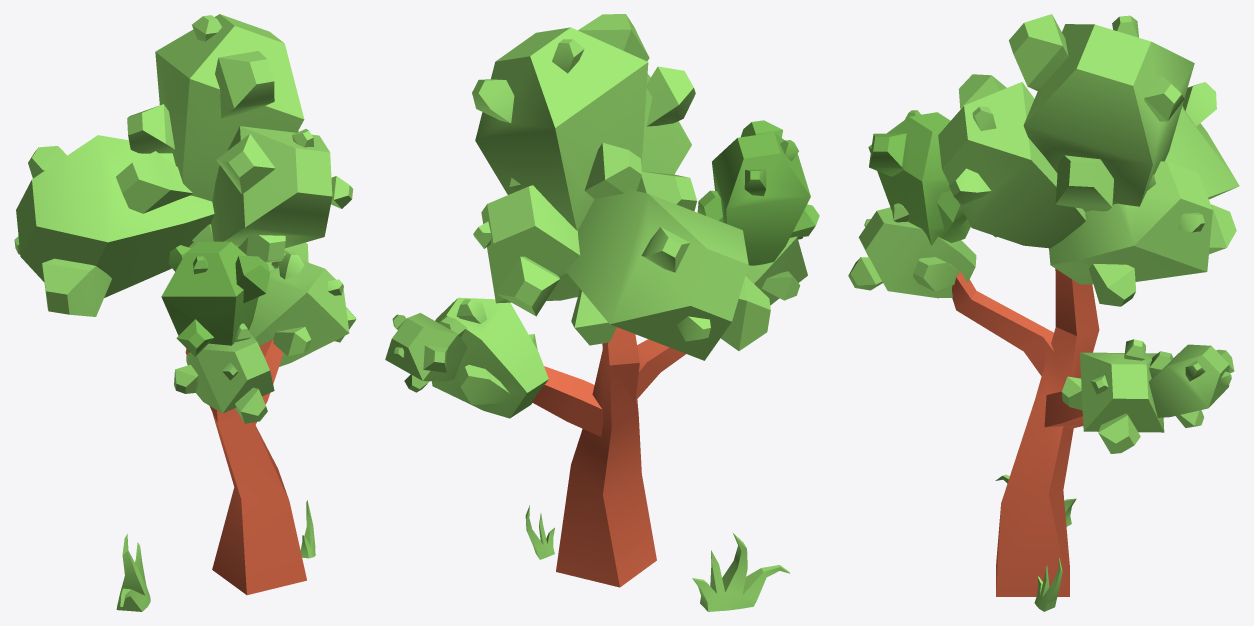
File: tree.glb
3 views of the same model, side by side, from view 1: azimuth 30°, elevation 25°; view 2: azimuth 150°, elevation 25°; view 3: azimuth 270°, elevation 25° (orthographic). The views are drawn at different scales.
Visible parts, largest first — view 1: BranchesCBranchesuBranchesbBrancheseBranches.Branches0Branc. (×3), Trunk, BranchesCBranchesuBranchesbBrancheseBranches.Branches0Branch, BranchesCBranchesuBranchesbBrancheseBranches.Branches0BrancB, BranchesCBranchesuBranchesbBrancheseBranchesBranch, Plane, Plane.001; view 2: BranchesCBranchesuBranchesbBrancheseBranches.Branches0Branc. (×5), Trunk, BranchesCBranchesuBranchesbBrancheseBranches.Branches0Branch, BranchesCBranchesuBranchesbBrancheseBranches.Branches0BrancB, Plane, BranchesCBranchesuBranchesbBrancheseBranchesBranch, Plane.001; view 3: BranchesCBranchesuBranchesbBrancheseBranches.Branches0Branc. (×5), Trunk, BranchesCBranchesuBranchesbBrancheseBranches.Branches0Branch, BranchesCBranchesuBranchesbBrancheseBranchesBranch, BranchesCBranchesuBranchesbBrancheseBranches.Branches0BrancB, Plane.001.
Boxes of the visible parts, x1,y1,x2,y2 form: BranchesCBranchesuBranchesbBrancheseBranches.Branches0Branc. (×3): (14, 14, 353, 316); Trunk: (185, 339, 306, 595); BranchesCBranchesuBranchesbBrancheseBranches.Branches0Branch: (161, 241, 269, 356); BranchesCBranchesuBranchesbBrancheseBranches.Branches0BrancB: (249, 253, 356, 366); BranchesCBranchesuBranchesbBrancheseBranchesBranch: (174, 323, 274, 423); Plane: (116, 534, 150, 611); Plane.001: (300, 500, 315, 558); BranchesCBranchesuBranchesbBrancheseBranches.Branches0Branc. (×5): (385, 14, 770, 392); Trunk: (532, 327, 685, 587); BranchesCBranchesuBranchesbBrancheseBranches.Branches0Branch: (697, 120, 819, 265); BranchesCBranchesuBranchesbBrancheseBranches.Branches0BrancB: (432, 297, 548, 418); Plane: (692, 533, 789, 611); BranchesCBranchesuBranchesbBrancheseBranchesBranch: (745, 236, 807, 305); Plane.001: (525, 505, 554, 559); BranchesCBranchesuBranchesbBrancheseBranches.Branches0Branc. (×5): (938, 14, 1239, 427); Trunk: (952, 268, 1099, 596); BranchesCBranchesuBranchesbBrancheseBranches.Branches0Branch: (868, 110, 970, 245); BranchesCBranchesuBranchesbBrancheseBranchesBranch: (848, 203, 976, 298); BranchesCBranchesuBranchesbBrancheseBranches.Branches0BrancB: (1061, 339, 1164, 453); Plane.001: (1034, 557, 1062, 611).
Size of the model in its own units: 10.59 by 16.8 by 10.6.
